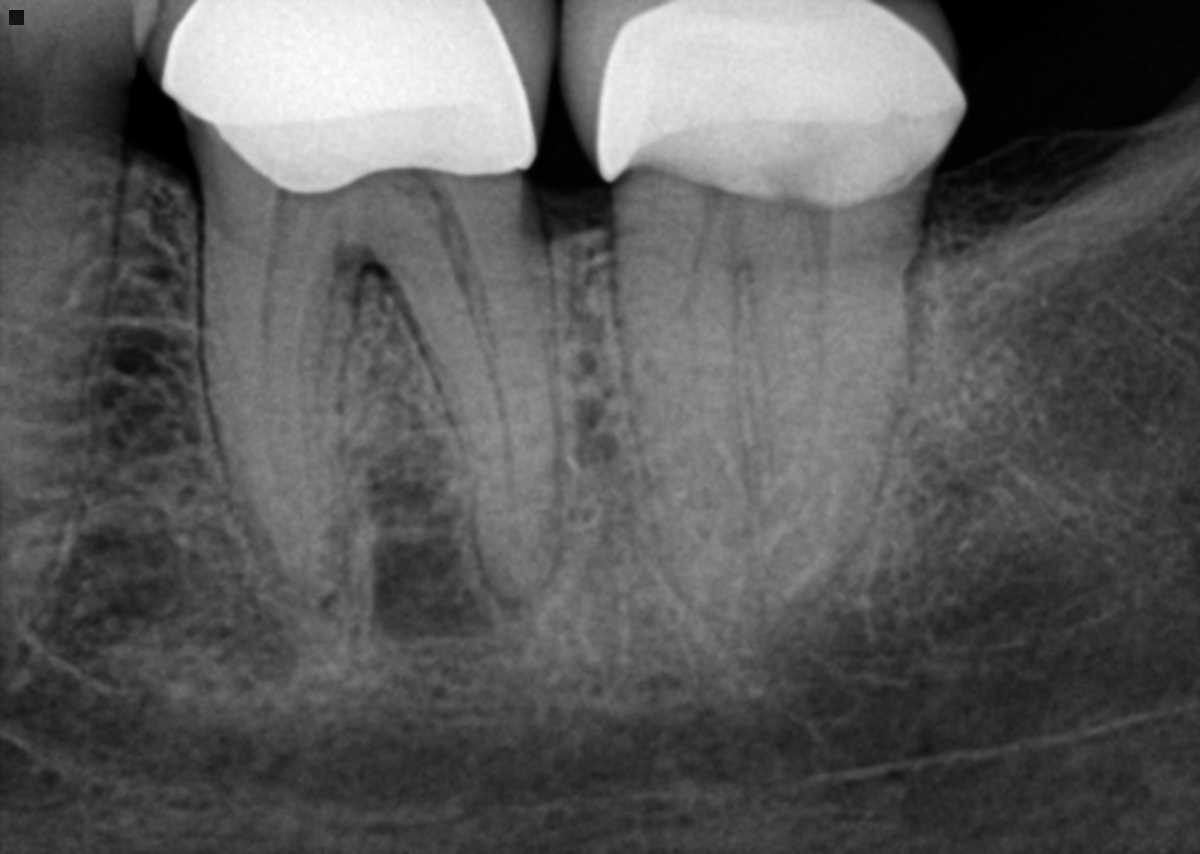Distal Canal: (448, 256, 524, 577), (809, 288, 828, 441)
Distal Root: (387, 241, 563, 606), (751, 274, 909, 605)
Main Root: (0, 167, 120, 671)
Mesial Canal: (685, 264, 707, 433), (260, 268, 279, 414)
Mesial Root: (201, 262, 363, 599), (613, 249, 755, 620)
